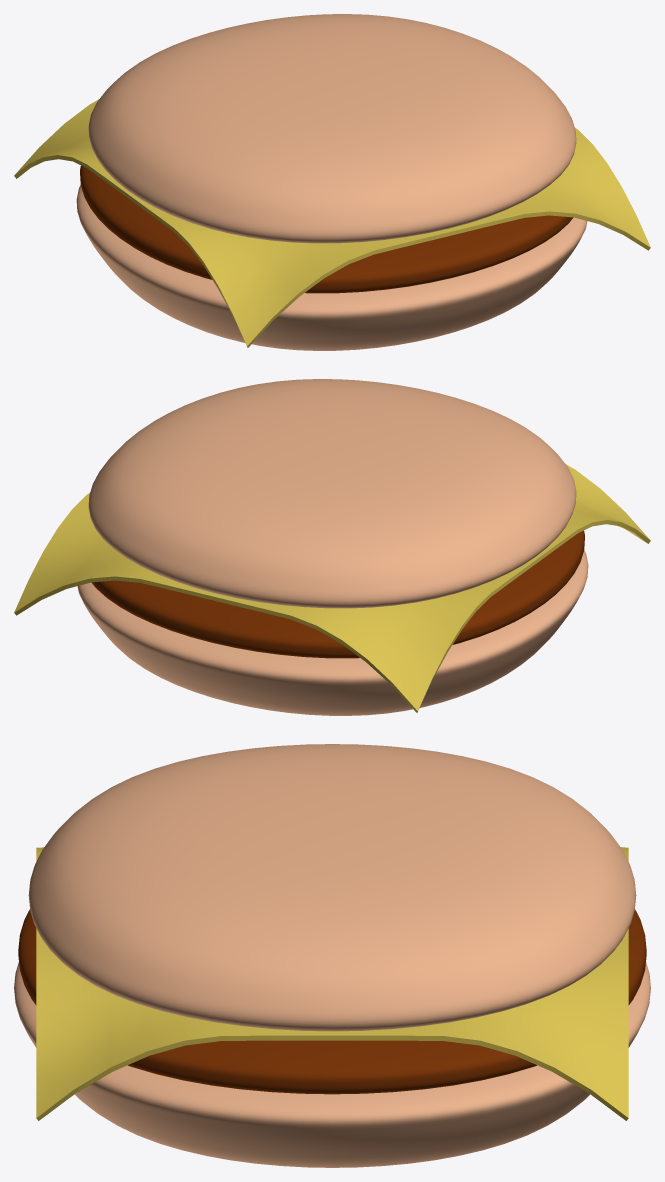
Rendered from hamburger.glb.
3 views of the same model, one above another, from view 1: azimuth 30°, elevation 25°; view 2: azimuth 150°, elevation 25°; view 3: azimuth 270°, elevation 25° (orthographic). The views are drawn at different scales.
Visible parts, largest first — view 1: Cube.002, Cube, Plane, Cube.001; view 2: Cube.002, Cube, Plane, Cube.001; view 3: Cube.002, Cube, Plane, Cube.001.
Boxes of the visible parts, x1,y1,x2,y2 form: Cube.002: (88, 14, 576, 243); Cube: (76, 185, 587, 350); Plane: (14, 99, 650, 347); Cube.001: (80, 165, 573, 293); Cube.002: (88, 379, 576, 608); Cube: (77, 550, 588, 715); Plane: (14, 464, 650, 712); Cube.001: (91, 530, 584, 658); Cube.002: (28, 744, 636, 1031); Cube: (14, 962, 650, 1167); Plane: (36, 847, 628, 1120); Cube.001: (18, 909, 646, 1094).
Bounding box in the file's own units: 8.14 × 3.66 × 8.14.
